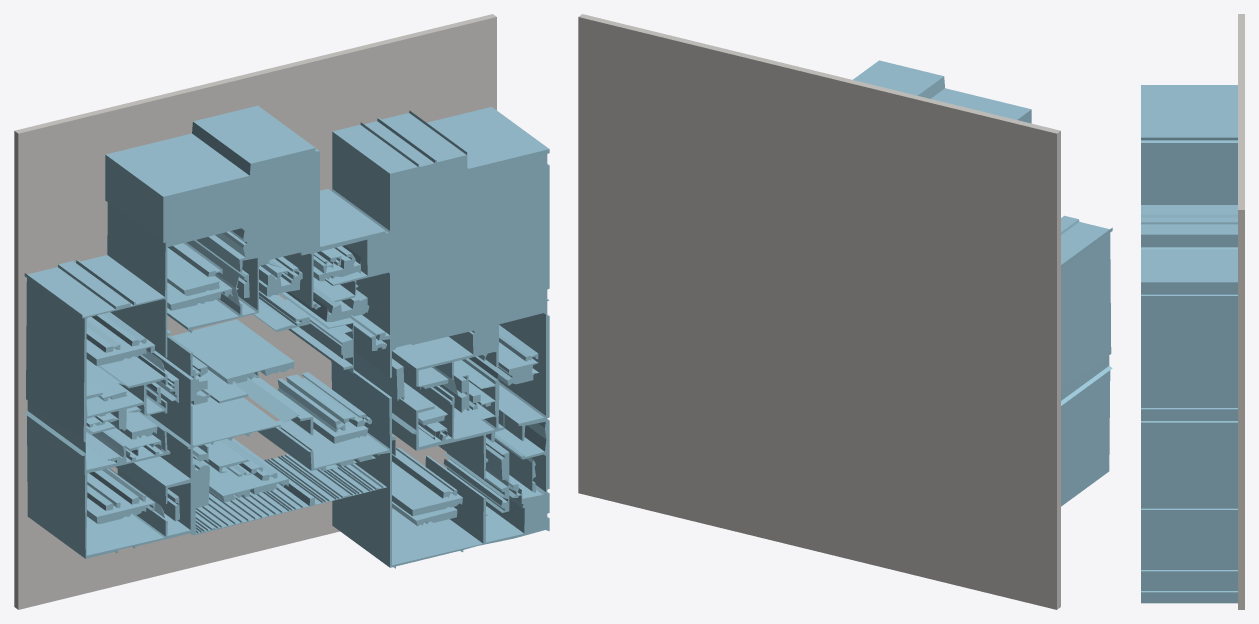
3 renders of one model, left to right at view 1: azimuth 30°, elevation 25°; view 2: azimuth 150°, elevation 25°; view 3: azimuth 270°, elevation 25°, orthographic. The views are drawn at different scales.
Parts seen in each view (by area): view 1: world; view 2: world; view 3: world.
Part boxes in pixels (bbox=[...]): world: bbox=[14, 14, 549, 609]; world: bbox=[578, 14, 1112, 609]; world: bbox=[1141, 14, 1244, 609].
Size of the model in its own units: 10.23 by 9.73 by 2.29.
